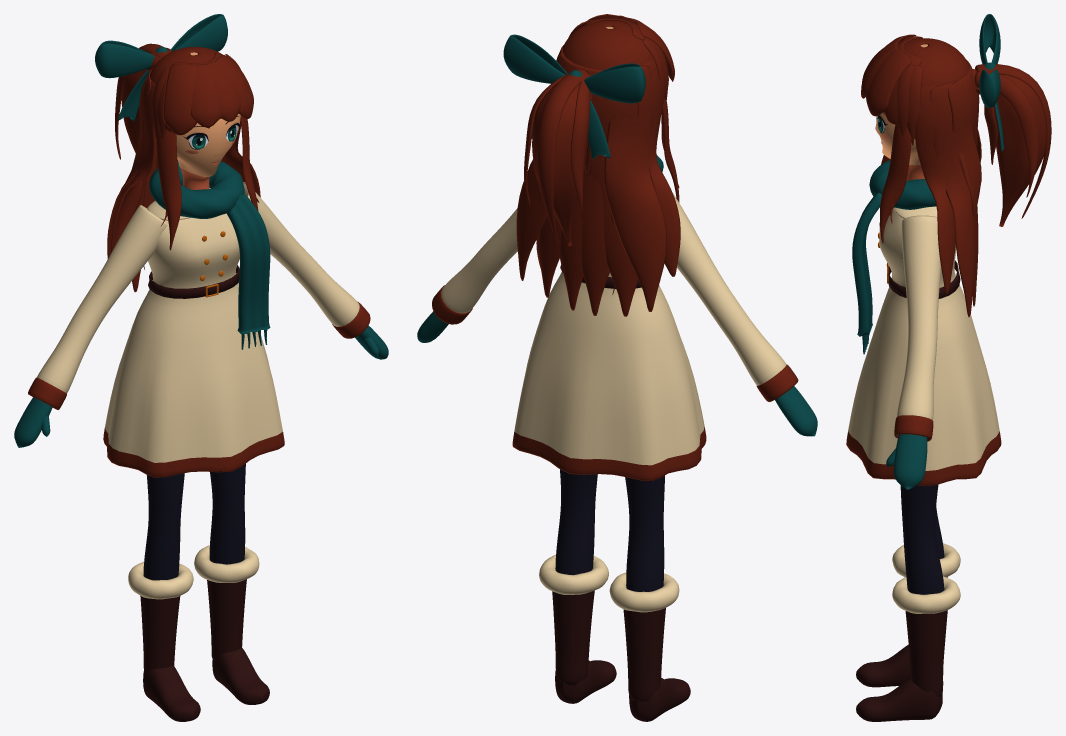
3 renders of one model, left to right at view 1: azimuth 30°, elevation 25°; view 2: azimuth 150°, elevation 25°; view 3: azimuth 270°, elevation 25°, orthographic. The views are drawn at different scales.
Visible parts, largest first — view 1: Coat, Boots, Scarf, Tights, Hair_Bangs, Hair_Back, Bow, Hair_SideLocks, Head, Mittens, Hair_Ponytail, Belt (+1 smaller); view 2: Coat, Hair_Back, Boots, Tights, Hair_Ponytail, Bow, Hair_Cap, Mittens, Hair_Bangs, Hair_SideLocks; view 3: Coat, Hair_Back, Boots, Hair_Ponytail, Hair_Bangs, Tights, Scarf, Hair_Cap, Hair_SideLocks, Bow, Mittens, Head (+1 smaller).
Boxes of the visible parts, <box> form: Coat: <box>28,182,370,477</box>; Boots: <box>128,545,269,721</box>; Scarf: <box>149,160,270,349</box>; Tights: <box>143,464,245,580</box>; Hair_Bangs: <box>152,52,253,140</box>; Hair_Back: <box>107,68,260,292</box>; Bow: <box>95,14,227,121</box>; Hair_SideLocks: <box>156,115,259,250</box>; Head: <box>176,52,240,189</box>; Mittens: <box>14,325,388,447</box>; Hair_Ponytail: <box>115,43,172,159</box>; Belt: <box>148,265,239,298</box>; Coat: <box>432,193,798,480</box>; Hair_Back: <box>516,45,680,316</box>; Boots: <box>539,554,690,721</box>; Tights: <box>555,469,664,591</box>; Hair_Ponytail: <box>524,69,592,245</box>; Bow: <box>503,34,645,158</box>; Hair_Cap: <box>562,20,654,69</box>; Mittens: <box>417,311,817,436</box>; Hair_Bangs: <box>568,14,674,113</box>; Hair_SideLocks: <box>661,98,679,202</box>; Coat: <box>846,206,1001,485</box>; Hair_Back: <box>915,59,981,317</box>; Boots: <box>856,543,960,721</box>; Hair_Ponytail: <box>971,64,1051,226</box>; Hair_Bangs: <box>861,34,923,145</box>; Tights: <box>900,485,944,594</box>; Scarf: <box>852,160,936,354</box>; Hair_Cap: <box>884,38,969,138</box>; Hair_SideLocks: <box>880,124,911,243</box>; Bow: <box>979,14,1004,151</box>; Mittens: <box>886,434,927,489</box>; Head: <box>875,44,927,180</box>.
Size of the model in its own units: 0.9602 by 1.59 by 0.45.
